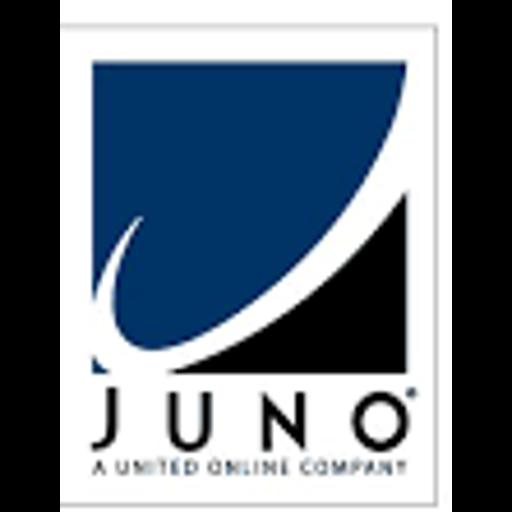Juno Online Services: (60, 0, 452, 512)
